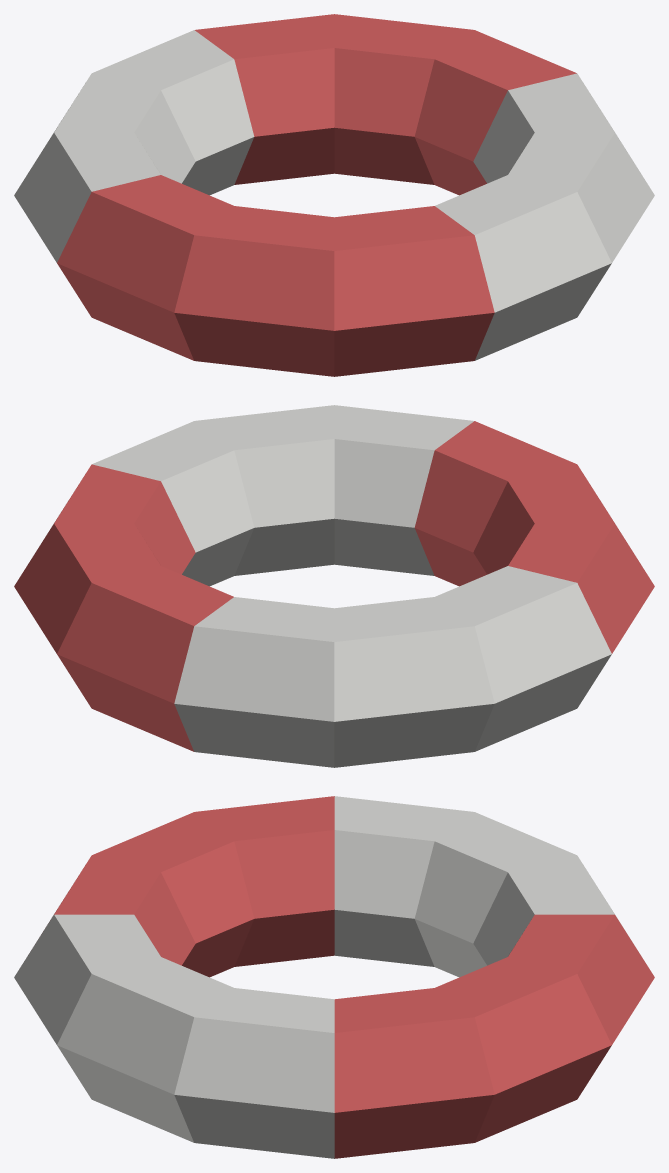
The model's file is pool_float.glb.
3 views of the same model, one above another, from view 1: azimuth 30°, elevation 25°; view 2: azimuth 150°, elevation 25°; view 3: azimuth 270°, elevation 25° (orthographic).
Visible parts, largest first — view 1: Pool_float; view 2: Pool_float; view 3: Pool_float.
Boxes of the visible parts, x1=… form: Pool_float: x1=14, y1=14, x2=654, y2=376; Pool_float: x1=14, y1=405, x2=654, y2=767; Pool_float: x1=14, y1=796, x2=654, y2=1158.
Size of the model in its own units: 1.12 by 0.2425 by 1.12.
